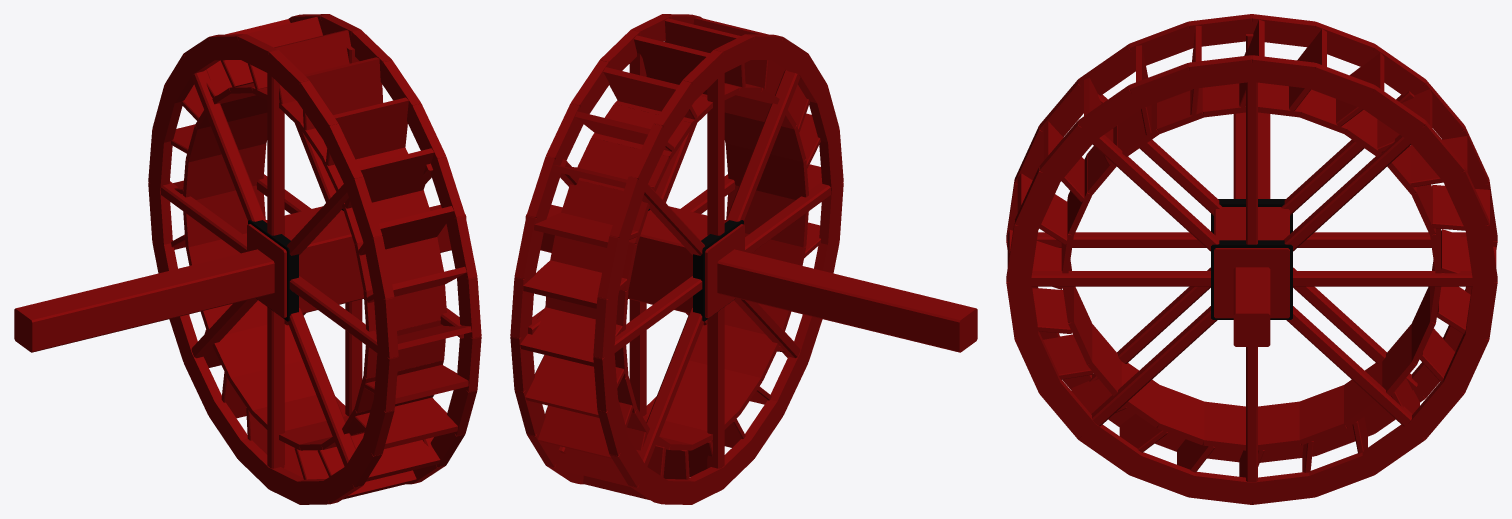
The model's file is SilverbrookMill_Wheel.fbx.
3 views of the same model, side by side, from view 1: azimuth 30°, elevation 25°; view 2: azimuth 150°, elevation 25°; view 3: azimuth 270°, elevation 25° (orthographic).
Parts seen in each view (by area): view 1: SM_SBMill_Wheel_Part; view 2: SM_SBMill_Wheel_Part; view 3: SM_SBMill_Wheel_Part.
Part boxes in pixels (x1,y1,x2,y2): SM_SBMill_Wheel_Part: (14, 14, 481, 504); SM_SBMill_Wheel_Part: (510, 14, 977, 504); SM_SBMill_Wheel_Part: (1006, 14, 1497, 504).
Size of the model in its own units: 335 by 323 by 323.
